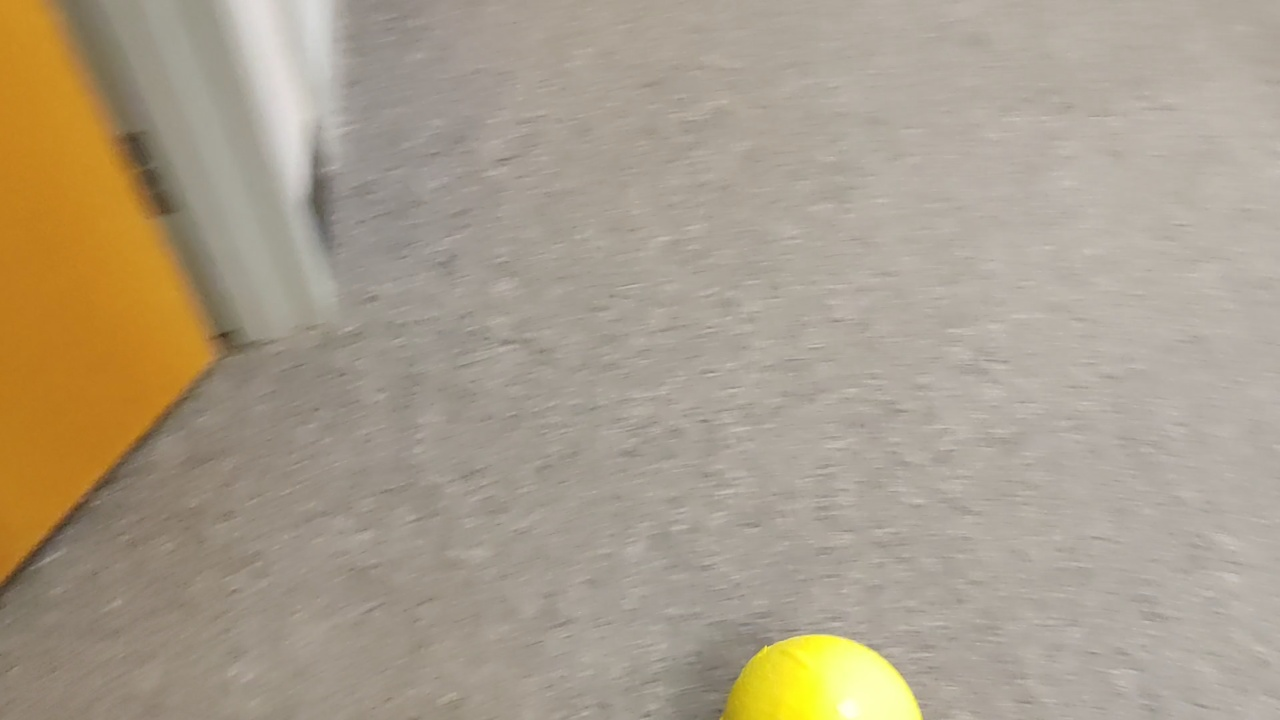Ball: (723, 636, 926, 720)
